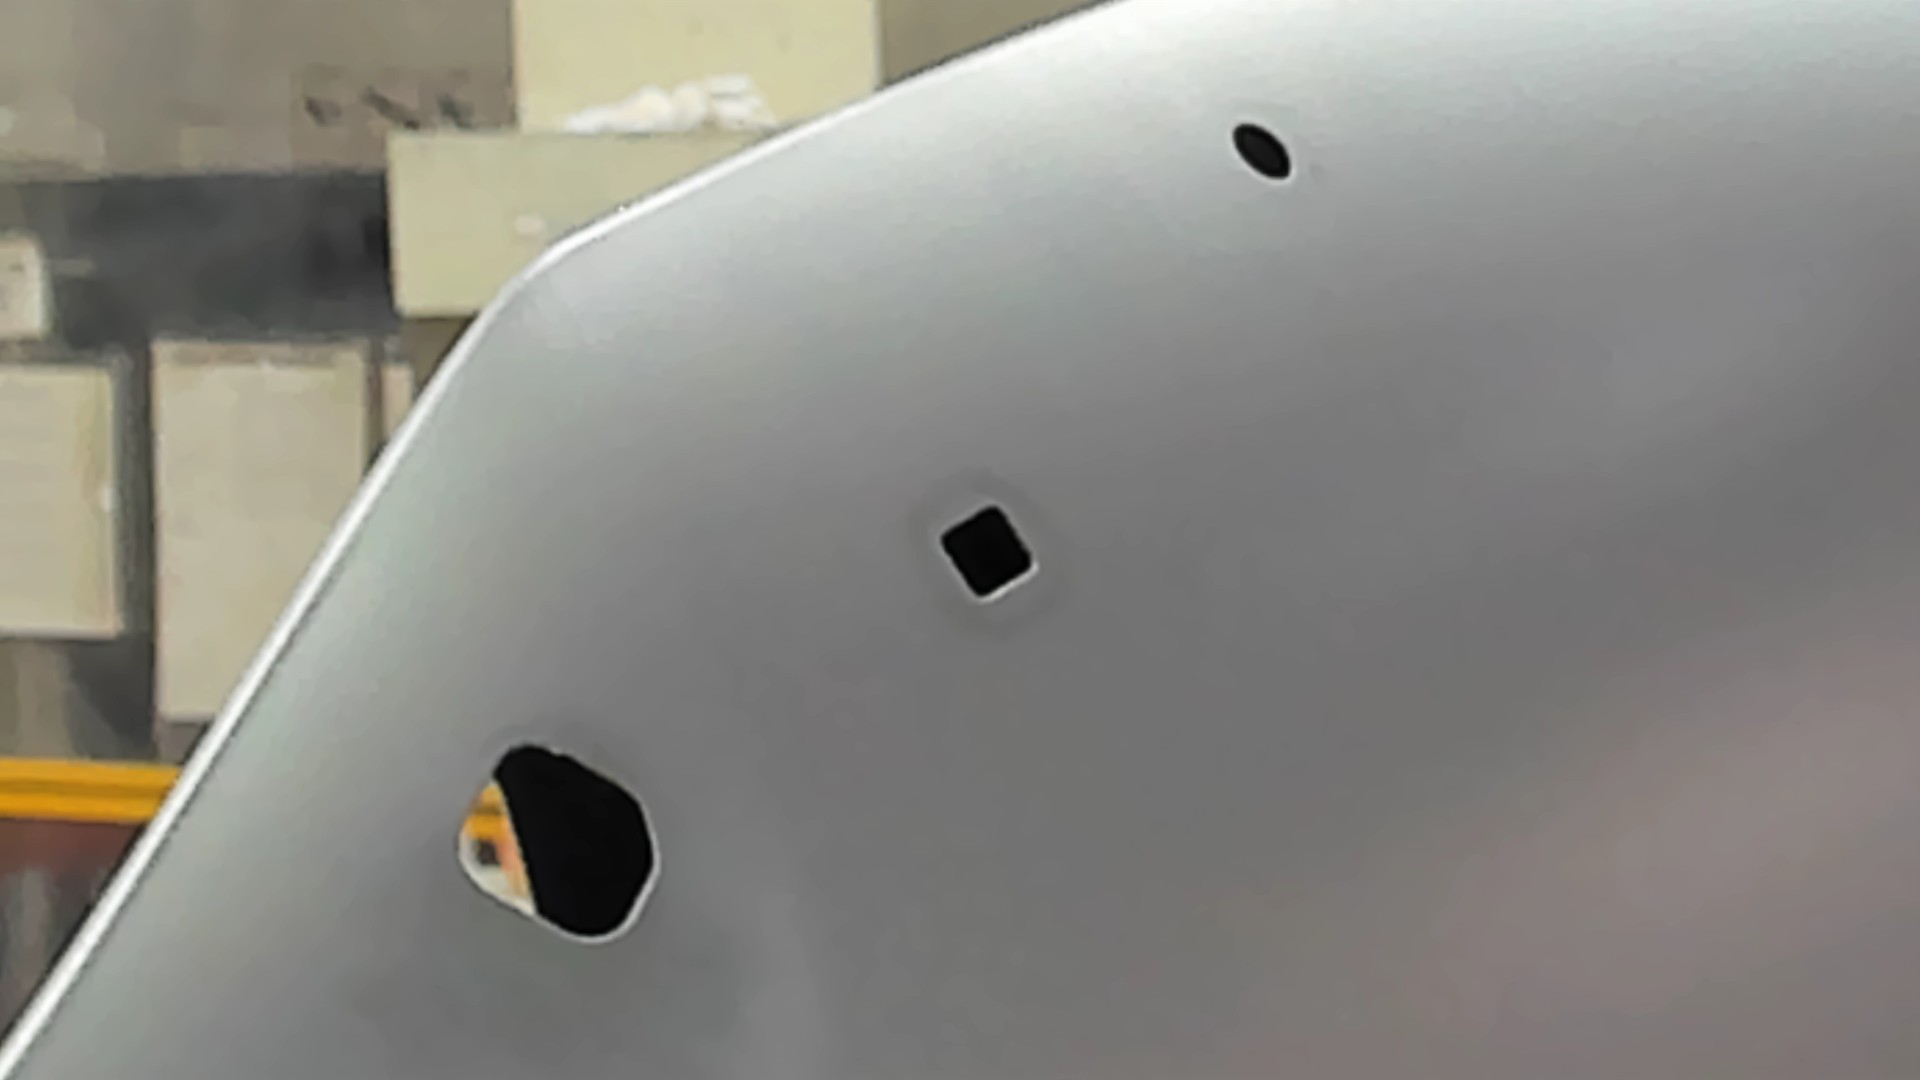capo: (1056, 193, 1920, 1080)
chico: (1226, 117, 1296, 191)
grande: (450, 738, 665, 953)
mediano: (934, 498, 1039, 607)
